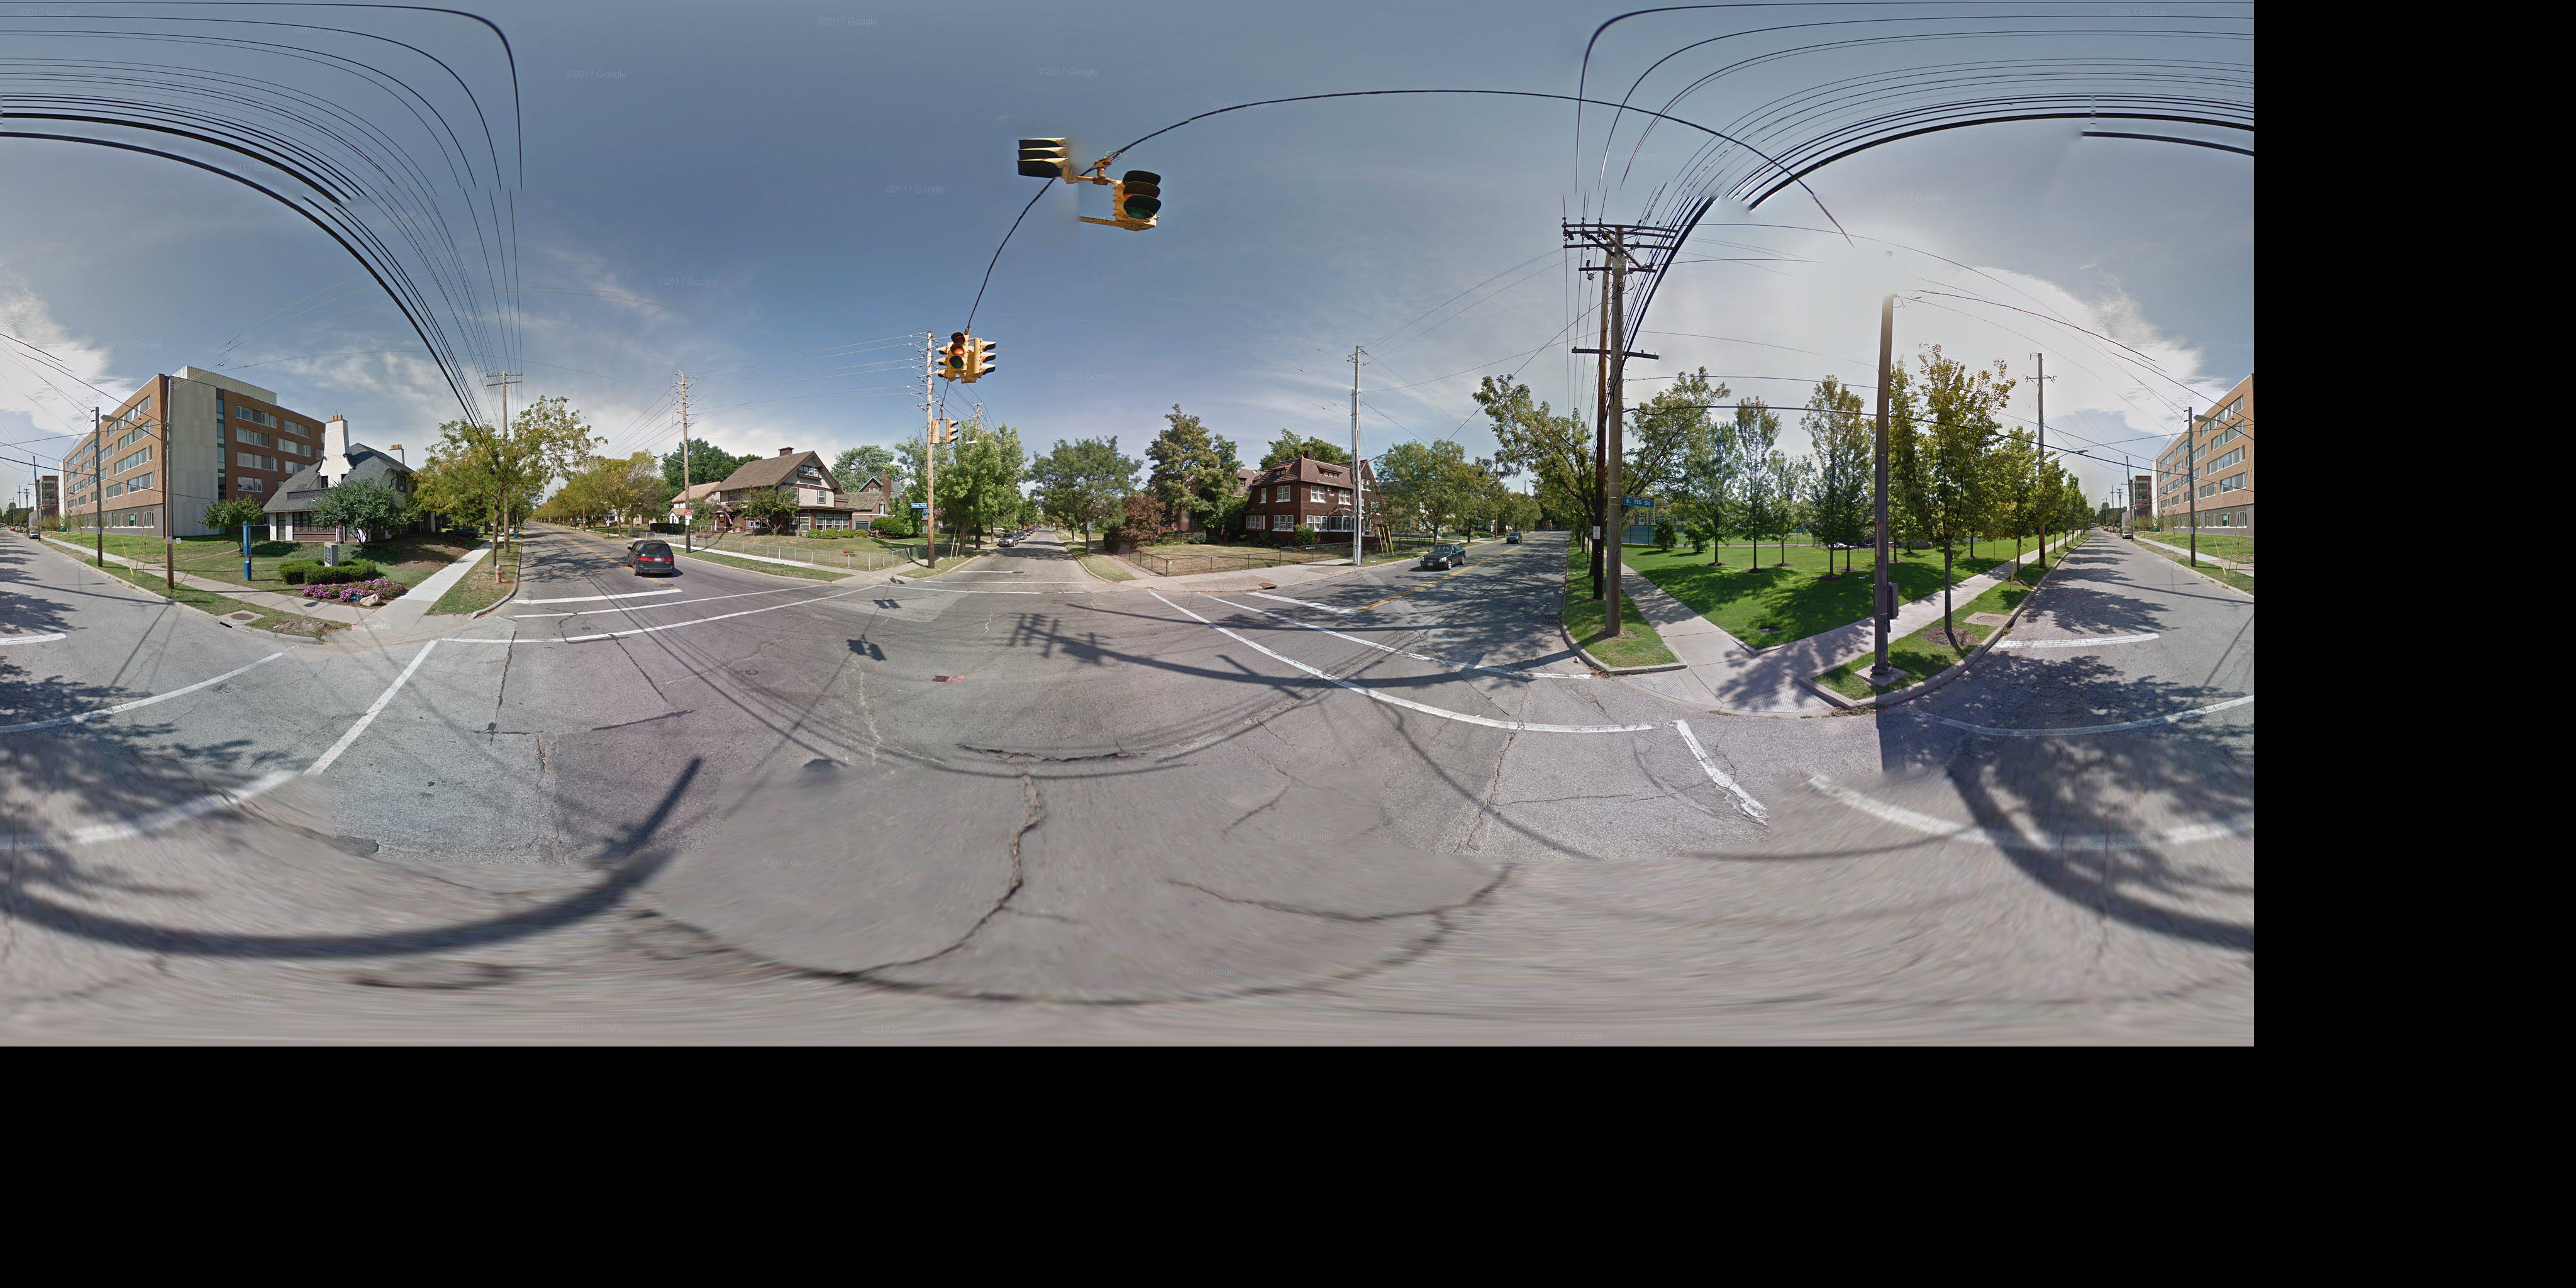Curb Ramp: (314, 601, 475, 659), (1715, 670, 1840, 720), (1607, 667, 1705, 718), (839, 568, 874, 590), (1153, 575, 1189, 593), (1115, 570, 1145, 591), (881, 568, 913, 586)
